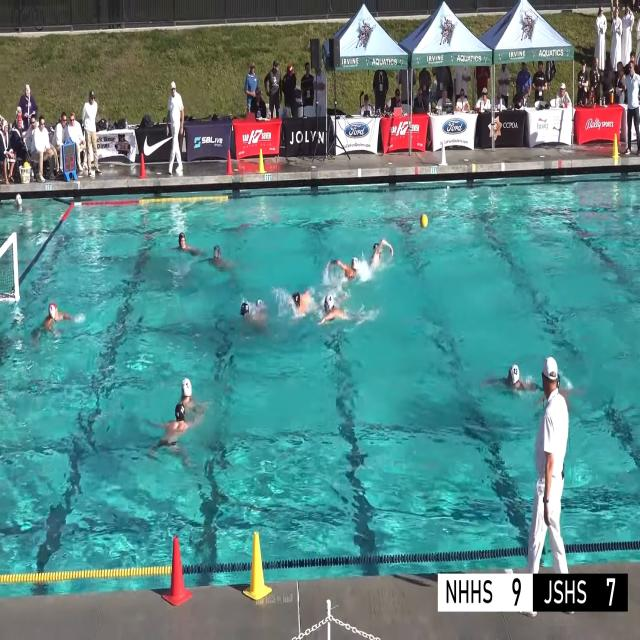ball: (420, 214, 428, 228), (23, 162, 30, 168)
